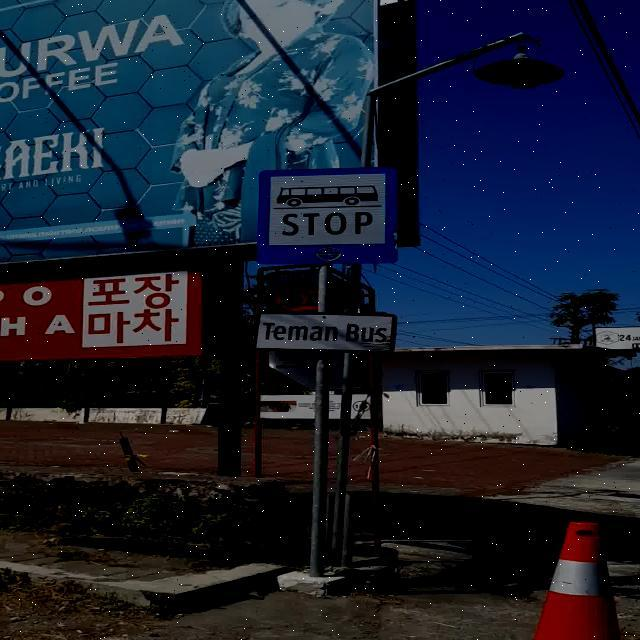Pemberhentian Bus: (256, 166, 398, 265)
